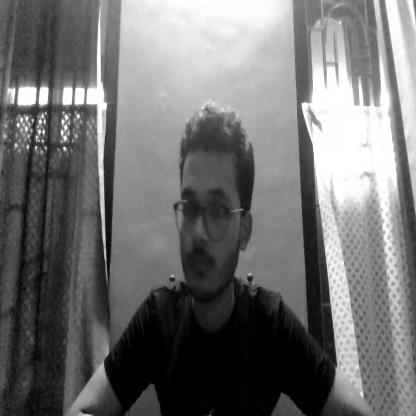Normal: (171, 96, 254, 320)
